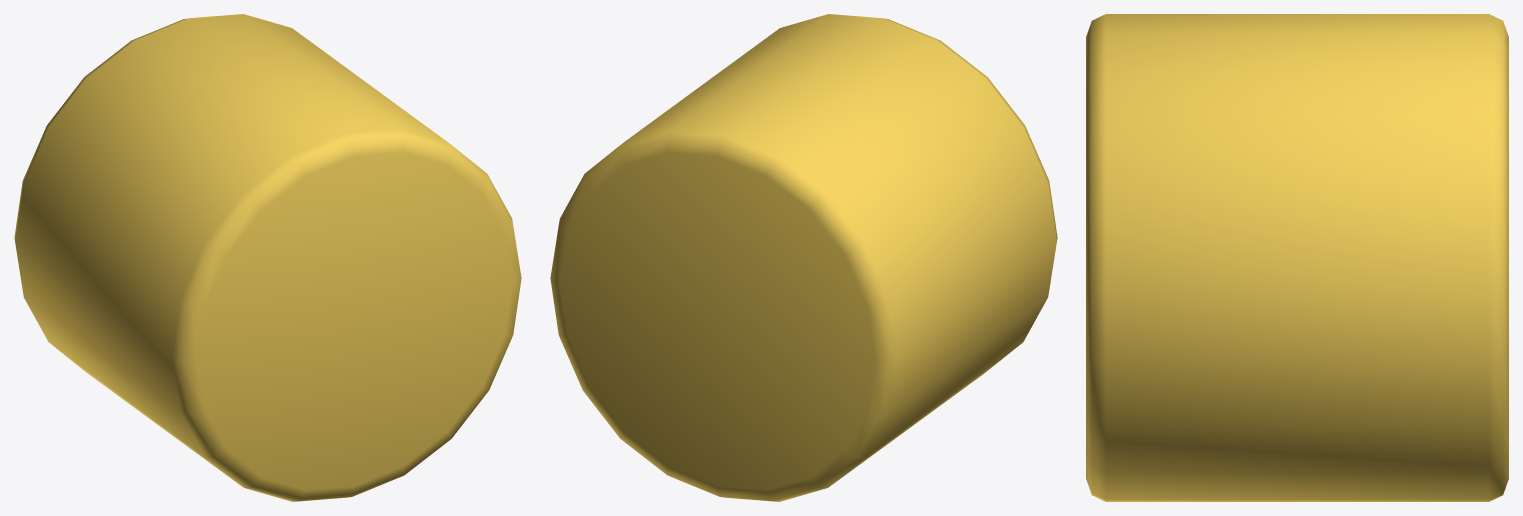
File: Hay_stacks.fbx
3 renders of one model, left to right at view 1: azimuth 30°, elevation 25°; view 2: azimuth 150°, elevation 25°; view 3: azimuth 270°, elevation 25°, orthographic. The views are drawn at different scales.
Visible parts, largest first — view 1: Hay_stacks; view 2: Hay_stacks; view 3: Hay_stacks.
Boxes of the visible parts, left/top/right/bottom form: Hay_stacks: left=14, top=14, right=521, bottom=501; Hay_stacks: left=550, top=14, right=1057, bottom=501; Hay_stacks: left=1086, top=14, right=1508, bottom=501.
Bounding box in the file's own units: 167 × 167 × 144.
